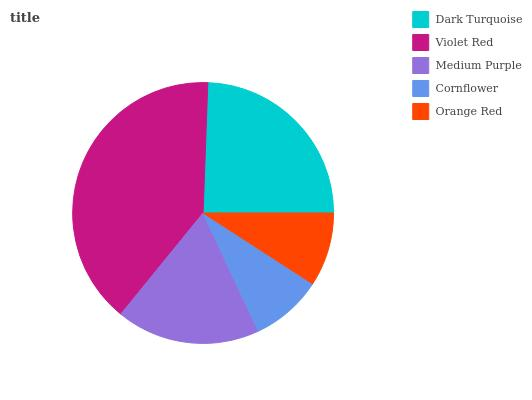legend: (406, 3, 530, 129)
sector: (71, 81, 210, 317), (123, 213, 257, 344), (202, 82, 334, 213), (202, 213, 312, 332), (203, 212, 334, 287)
